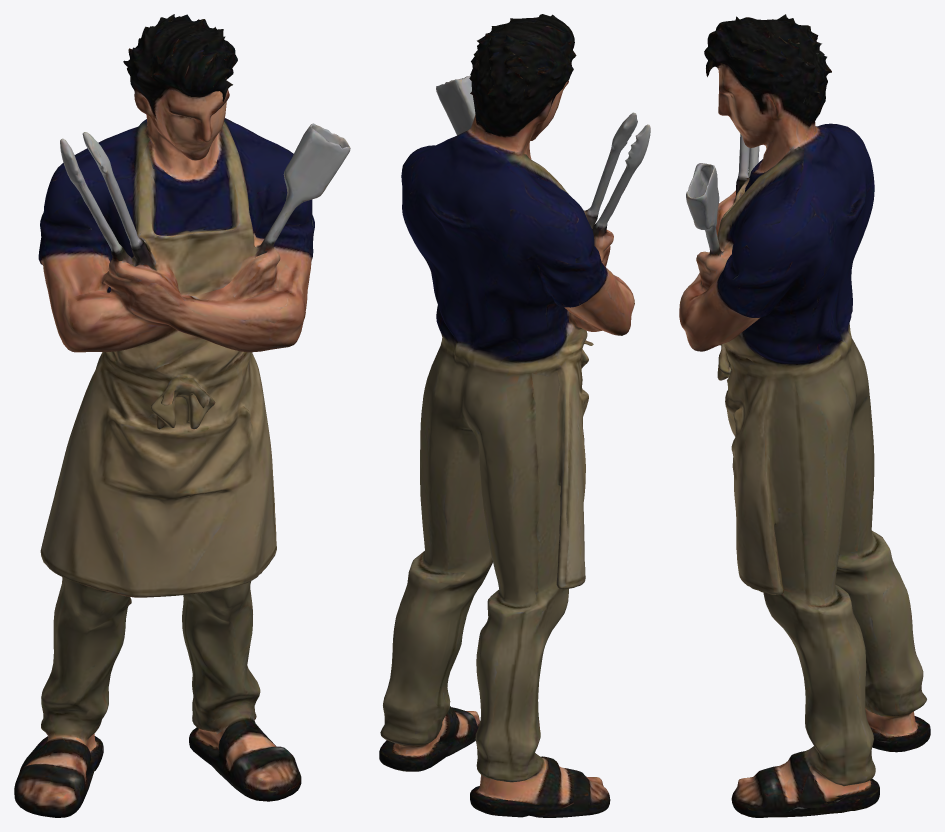
File: neutral_dad.glb
3 renders of one model, left to right at view 1: azimuth 30°, elevation 25°; view 2: azimuth 150°, elevation 25°; view 3: azimuth 270°, elevation 25°, orthographic. The views are drawn at different scales.
Bounding box in the file's own units: 0.3017 × 0.8787 × 0.2668.
Materials: 1 (1 with a texture image).
